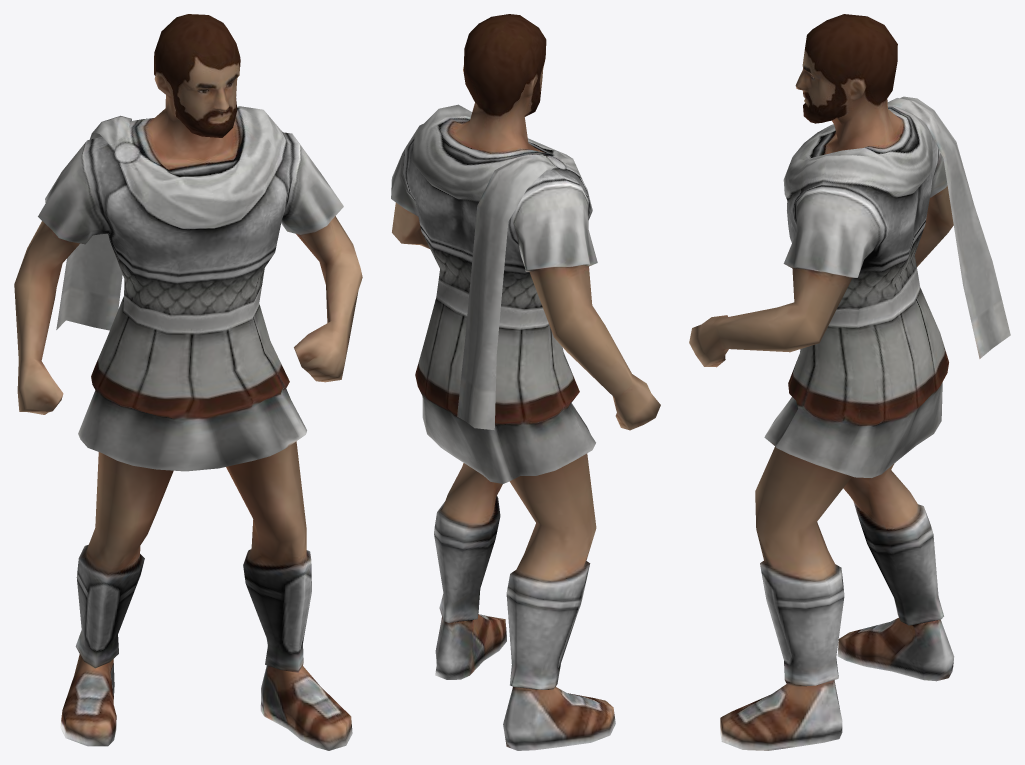
File: body-heavyinfantry.glb
The picture shows the model from 3 angles, left to right: view 1: azimuth 30°, elevation 25°; view 2: azimuth 150°, elevation 25°; view 3: azimuth 270°, elevation 25°; orthographic projection. The views are drawn at different scales.
Size of the model in its own units: 0.9083 by 2.02 by 0.8614.
1 material, 1 textured.
